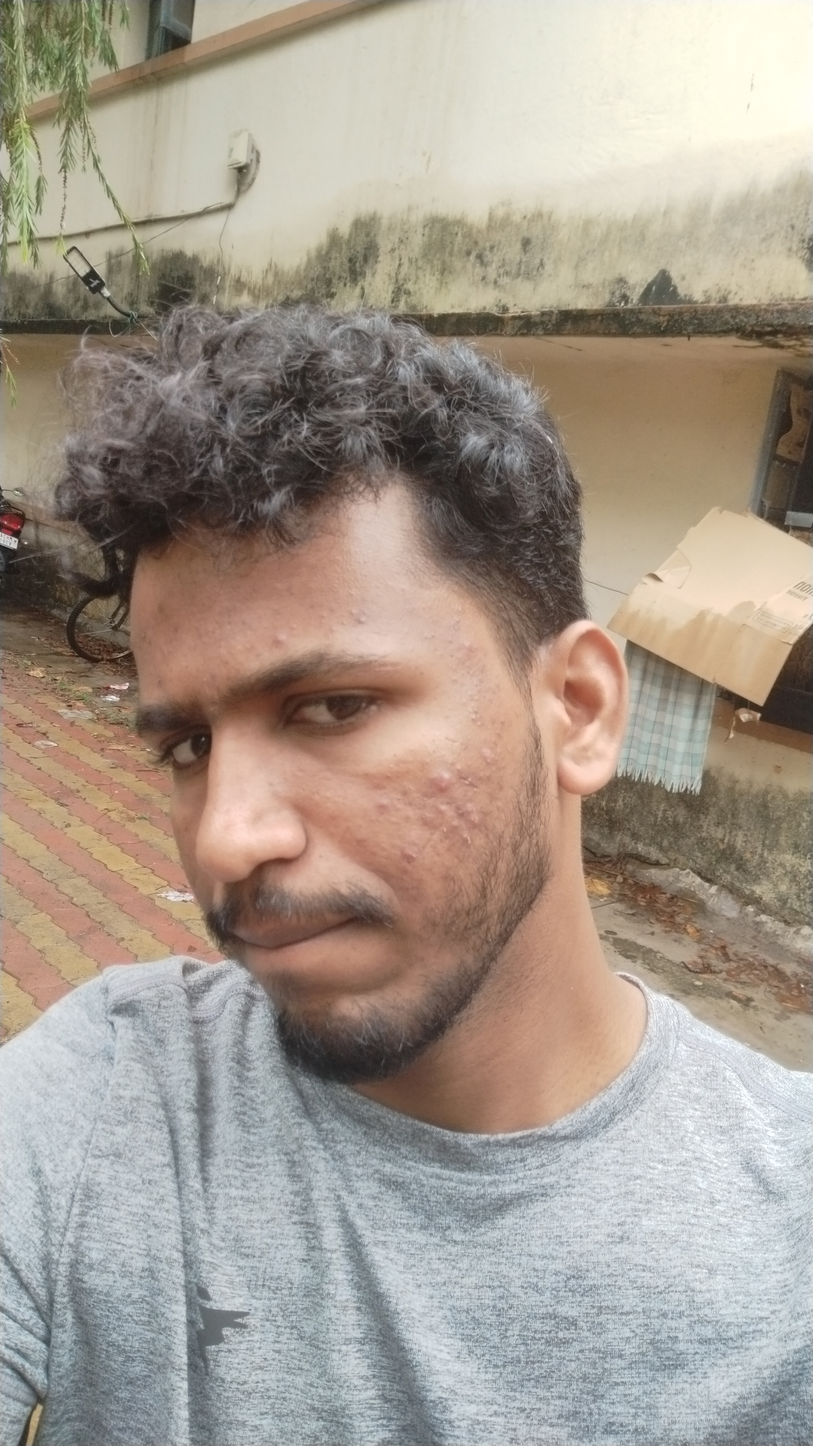closed_comedone: (319, 610, 340, 636), (468, 716, 485, 727)
nodule: (431, 765, 456, 791), (462, 815, 491, 827), (459, 832, 474, 846), (377, 799, 391, 810)
open_comedone: (465, 640, 475, 650)
papule: (258, 625, 301, 649), (481, 747, 513, 765)
